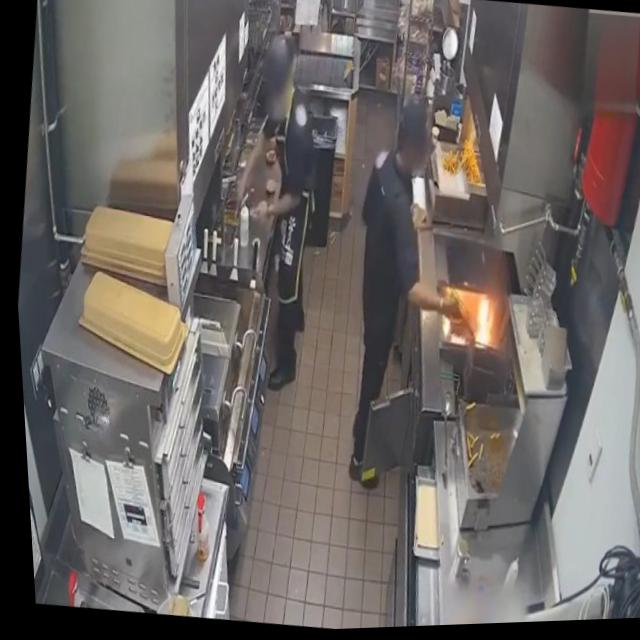fire: (467, 297, 495, 352)
